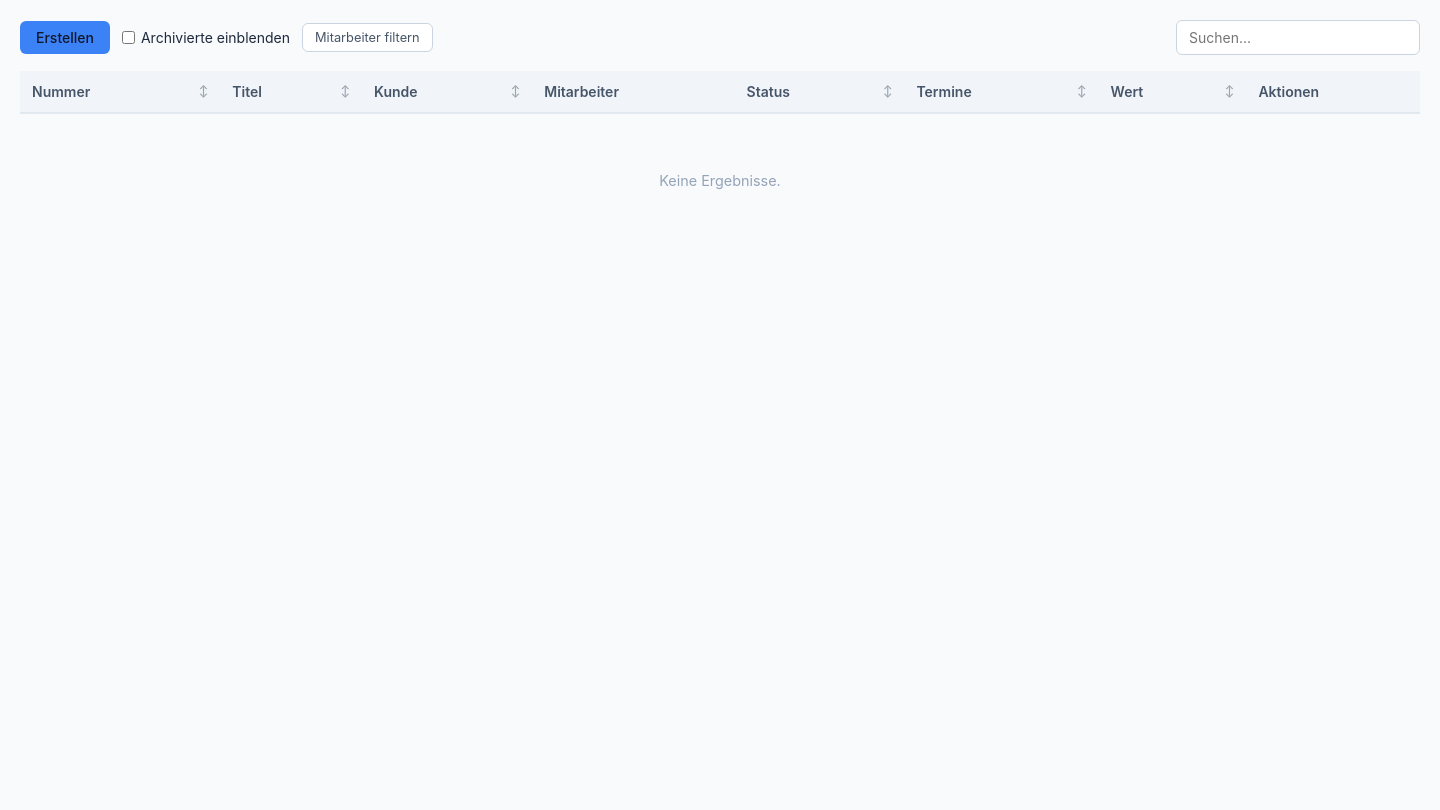
Test case: ProjectManagement — number preflight › shows "available" on blur when the number is free
Click the button with test id "project-create-button": (65, 38) top-left (20, 21), bottom-right (110, 54)
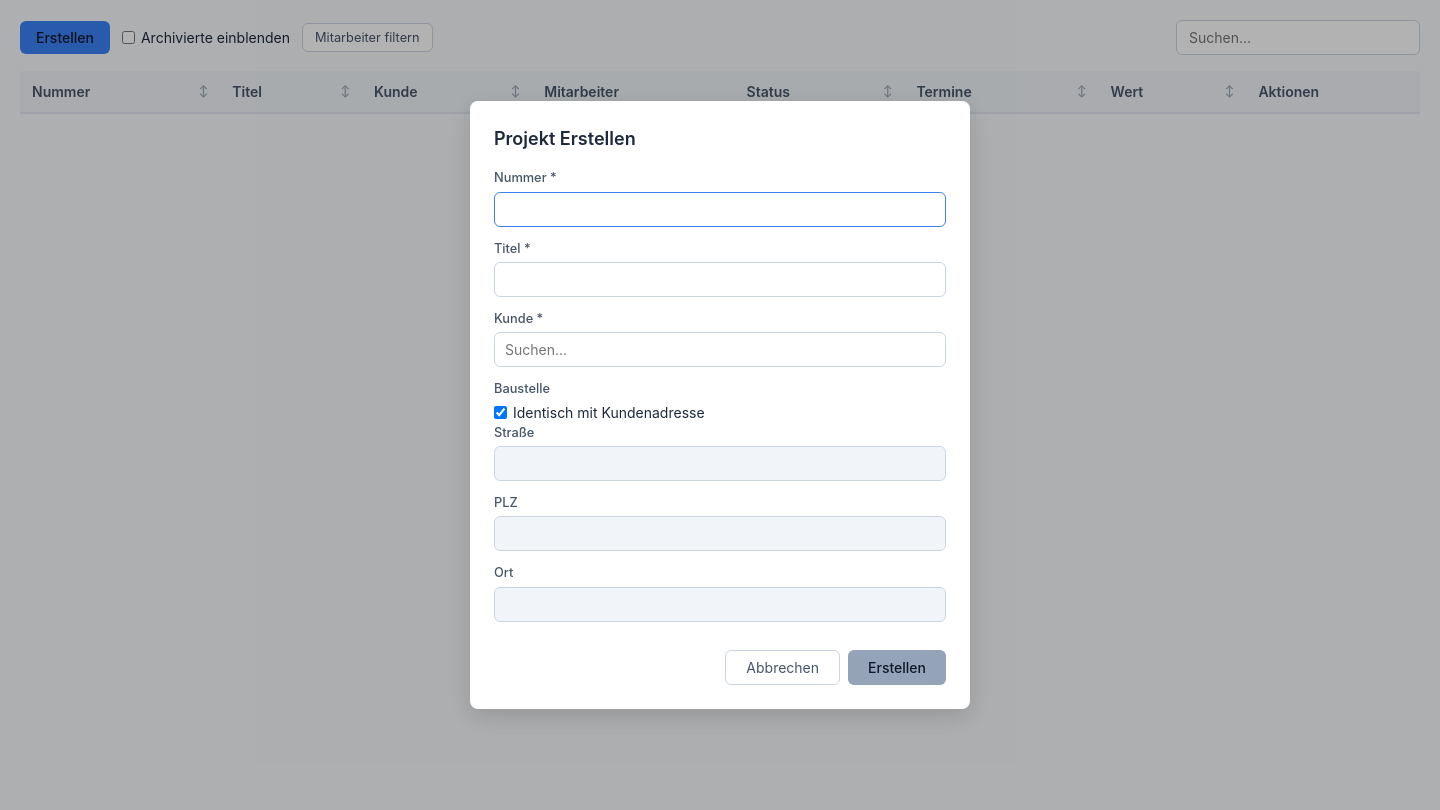
In the field with test id "project-number-input": (720, 209) top-left (494, 192), bottom-right (946, 226), type "P-1000"
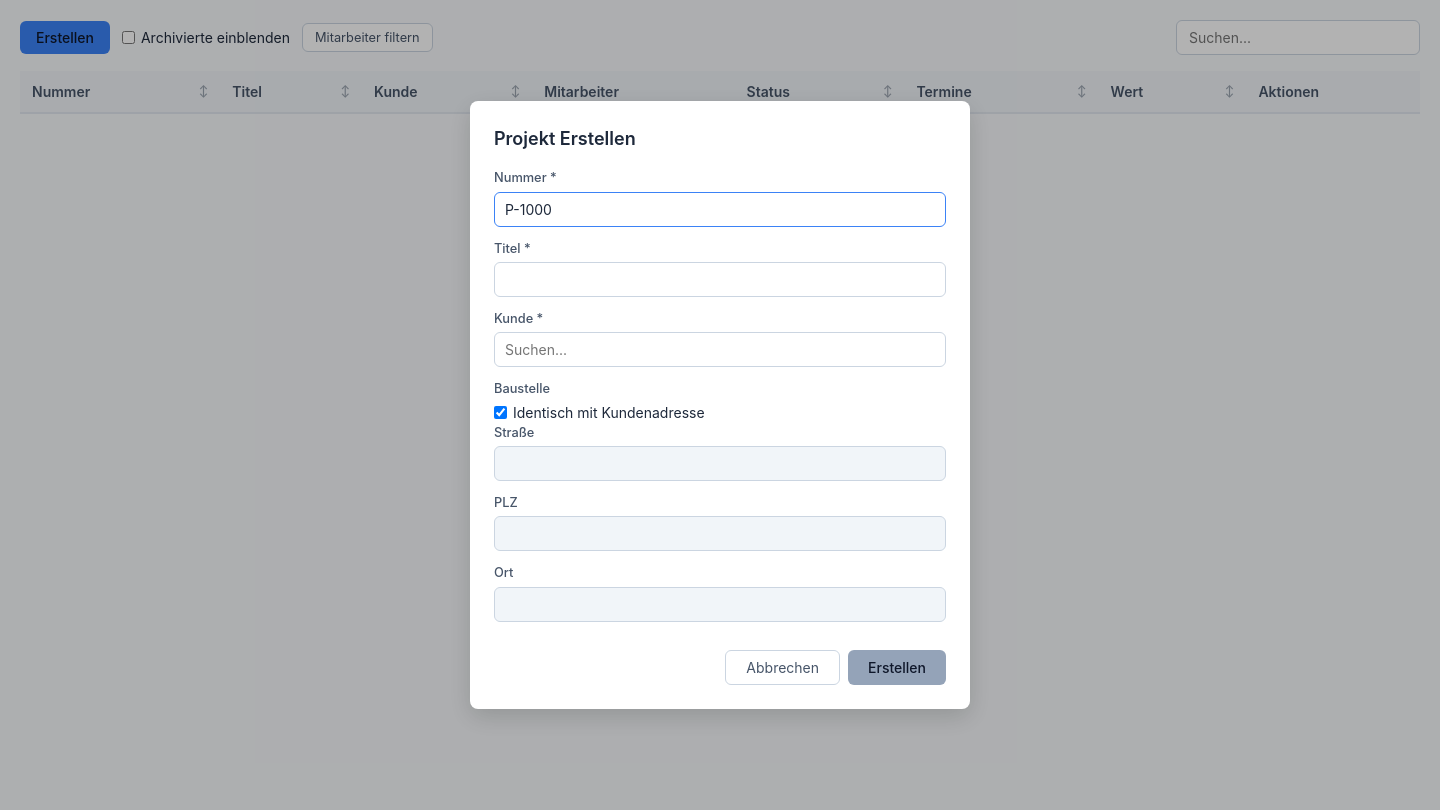
Leave the field with test id "project-number-input", box top-left (494, 192), bottom-right (946, 226)
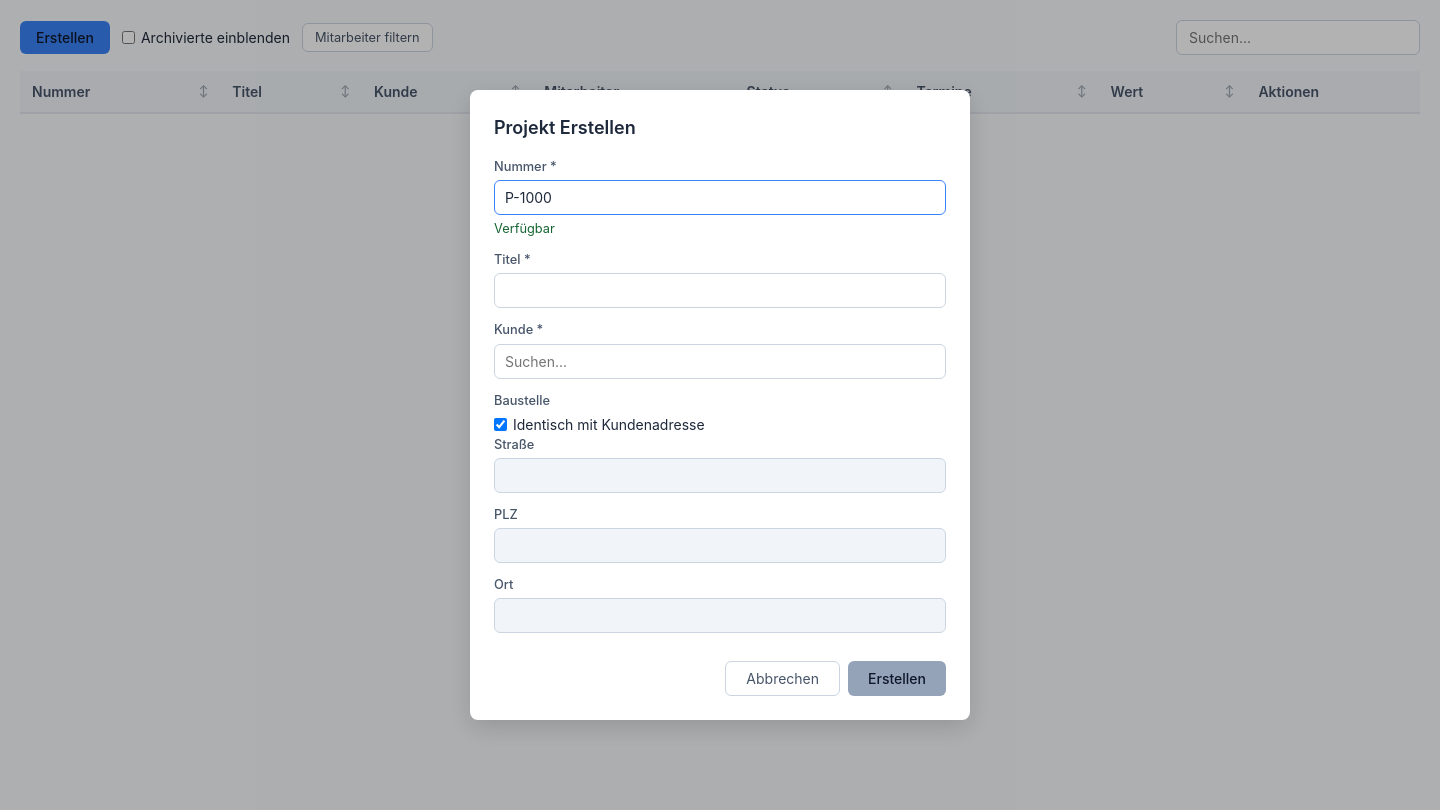
Check: the message "Verfügbar" is shown, box top-left (494, 221), bottom-right (555, 236)
